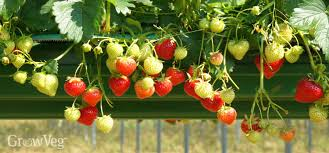ripe: (253, 50, 282, 80), (294, 75, 324, 103), (107, 72, 131, 96), (60, 76, 86, 97), (155, 37, 175, 63), (200, 91, 224, 112), (185, 74, 203, 101), (163, 65, 185, 87), (78, 103, 99, 125), (216, 104, 236, 125), (241, 115, 262, 134), (154, 77, 173, 98), (83, 86, 102, 105), (115, 56, 136, 73), (186, 63, 201, 78)
unripe: (271, 19, 294, 47), (39, 70, 61, 95), (228, 35, 249, 60), (133, 79, 155, 102), (264, 40, 285, 64), (142, 55, 164, 74), (94, 113, 115, 132), (15, 35, 34, 54), (308, 104, 327, 122), (284, 47, 301, 67), (137, 41, 154, 61), (61, 106, 81, 123), (194, 80, 212, 98), (106, 41, 124, 59), (104, 55, 122, 72), (30, 71, 47, 89), (10, 51, 26, 69), (126, 42, 141, 60), (279, 126, 295, 142), (209, 50, 225, 66), (218, 87, 234, 103), (244, 128, 261, 143), (208, 16, 225, 31), (12, 69, 28, 84), (265, 121, 278, 138), (173, 46, 187, 61), (3, 38, 15, 55), (257, 115, 269, 130), (196, 18, 211, 29), (292, 43, 304, 55), (141, 76, 153, 88), (82, 42, 92, 53)
